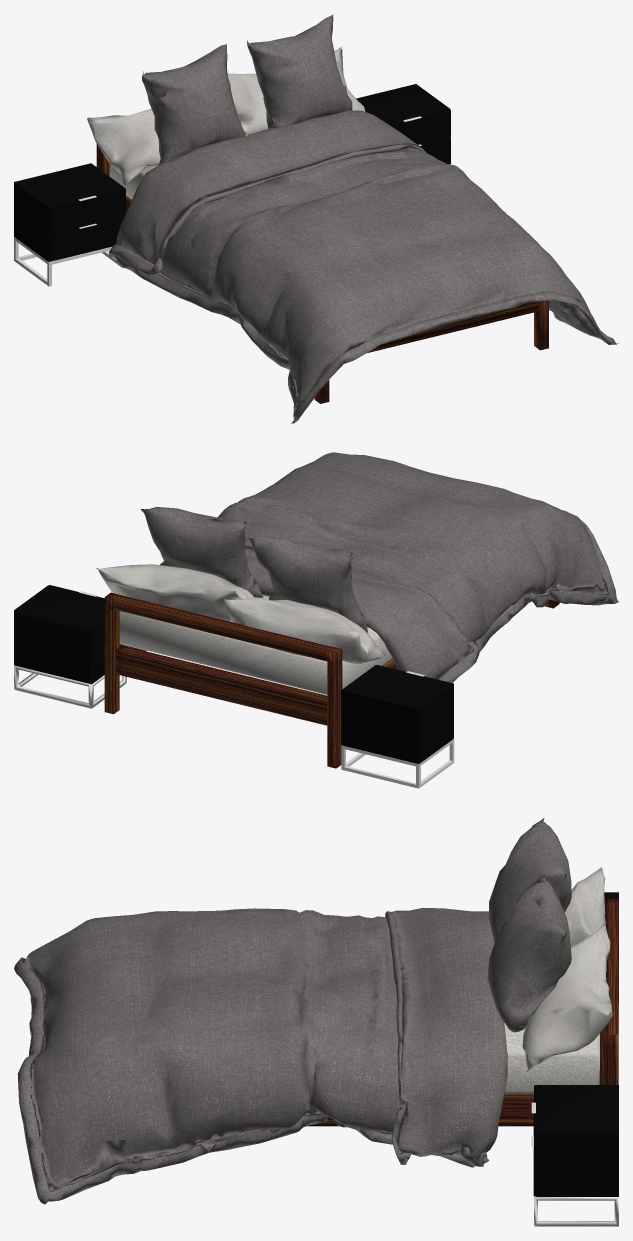
The model's file is petitechambre.glb.
3 renders of one model, top to bottom at view 1: azimuth 30°, elevation 25°; view 2: azimuth 150°, elevation 25°; view 3: azimuth 270°, elevation 25°, orthographic. The views are drawn at different scales.
Parts seen in each view (by area): view 1: Bedroom_Beds_Double-Duvet-Grand_01.001, Bedroom_Bedside-Cabinets_Two-Drawer_03.001, Bedroom_Bedside-Cabinets_Two-Drawer_03, Bedroom_Beds_Double-Duvet-Grand_01_Frame.001; view 2: Bedroom_Beds_Double-Duvet-Grand_01.001, Bedroom_Beds_Double-Duvet-Grand_01_Frame.001, Bedroom_Bedside-Cabinets_Two-Drawer_03.001, Bedroom_Bedside-Cabinets_Two-Drawer_03; view 3: Bedroom_Beds_Double-Duvet-Grand_01.001, Bedroom_Bedside-Cabinets_Two-Drawer_03, Bedroom_Beds_Double-Duvet-Grand_01_Frame.001.
Part boxes in pixels (x1=…): Bedroom_Beds_Double-Duvet-Grand_01.001: x1=87, y1=14, x2=618, y2=423; Bedroom_Bedside-Cabinets_Two-Drawer_03.001: x1=14, y1=163, x2=125, y2=286; Bedroom_Bedside-Cabinets_Two-Drawer_03: x1=356, y1=84, x2=450, y2=164; Bedroom_Beds_Double-Duvet-Grand_01_Frame.001: x1=96, y1=144, x2=548, y2=403; Bedroom_Beds_Double-Duvet-Grand_01.001: x1=96, y1=452, x2=618, y2=694; Bedroom_Beds_Double-Duvet-Grand_01_Frame.001: x1=104, y1=592, x2=559, y2=768; Bedroom_Bedside-Cabinets_Two-Drawer_03.001: x1=341, y1=665, x2=454, y2=788; Bedroom_Bedside-Cabinets_Two-Drawer_03: x1=14, y1=585, x2=126, y2=708; Bedroom_Beds_Double-Duvet-Grand_01.001: x1=14, y1=818, x2=612, y2=1204; Bedroom_Bedside-Cabinets_Two-Drawer_03: x1=531, y1=1085, x2=618, y2=1226; Bedroom_Beds_Double-Duvet-Grand_01_Frame.001: x1=307, y1=898, x2=618, y2=1126.
Bounding box in the file's own units: 2.31 × 1.06 × 2.47.
5 materials, 3 textured.
